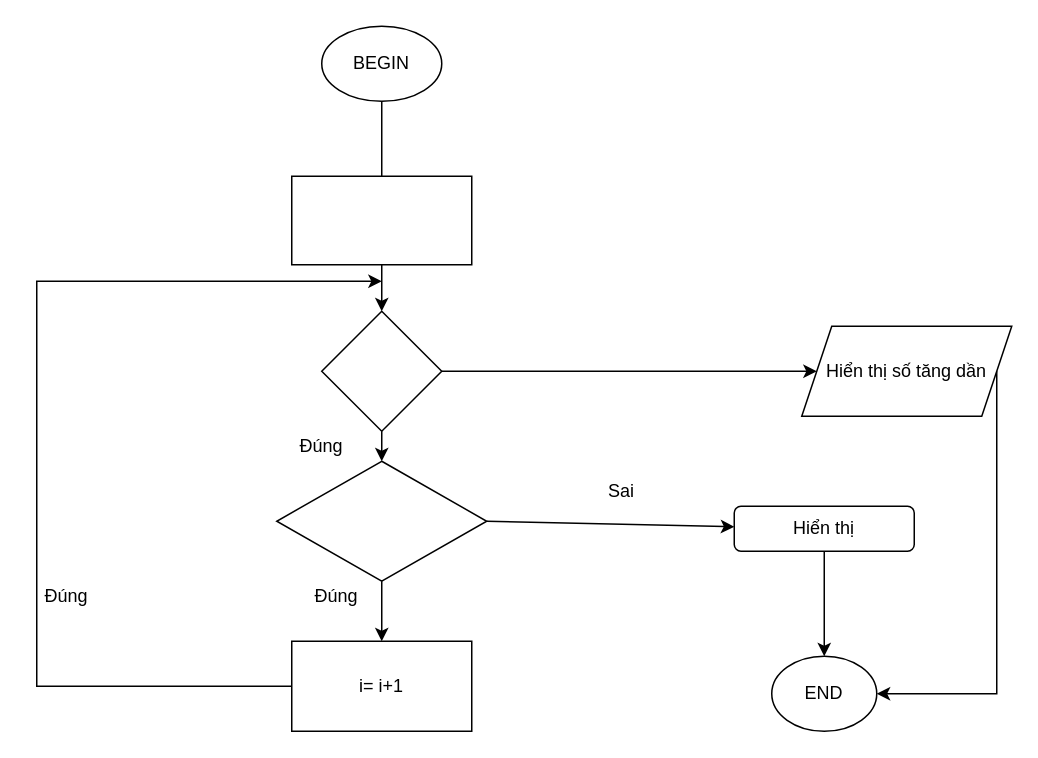
Some shapes in this 1038 by 758 pixel diagram are drawn without their labels. The shapes that lost their labels are listed below. From the top down, each one's centre as x and y in pixels, then its label:
At (381,220): "int a[n] i=0".
At (381,370): "i <= n".
At (381,520): "a[i] < a[i+1]".
